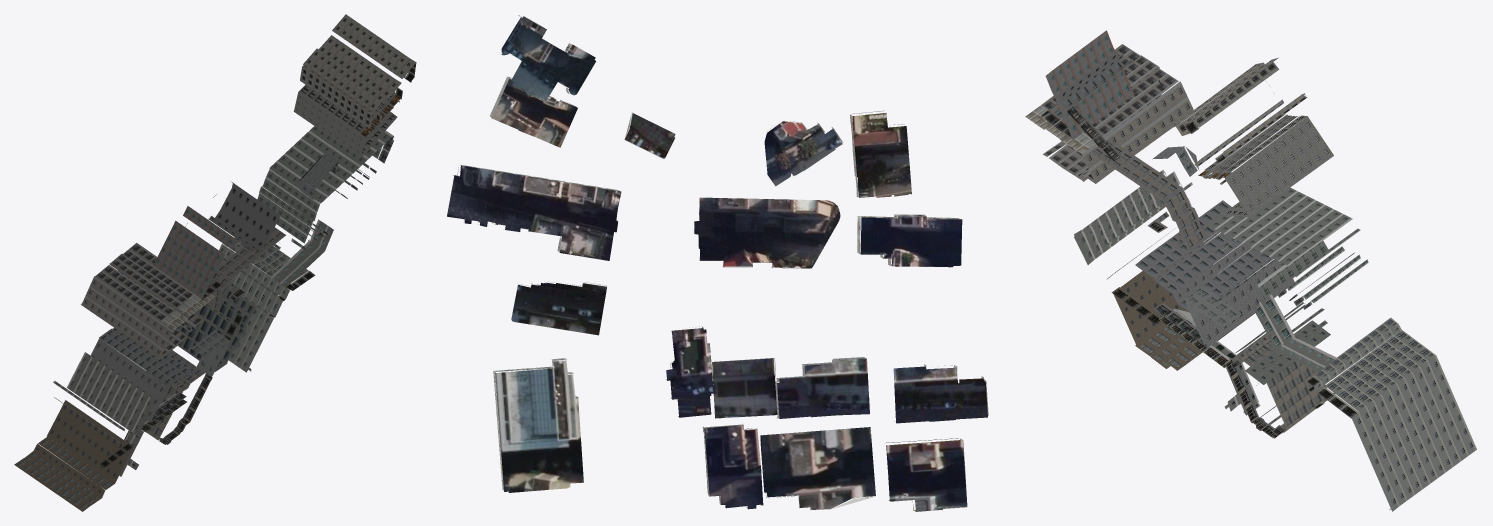
File: tile_LOD4_r6_c12.glb
3 views of the same model, side by side, from view 1: azimuth 30°, elevation 25°; view 2: azimuth 150°, elevation 25°; view 3: azimuth 270°, elevation 25° (orthographic). The views are drawn at different scales.
Bounding box in the file's own units: 194 × 173 × 147.
Materials: 82 (82 with a texture image).
